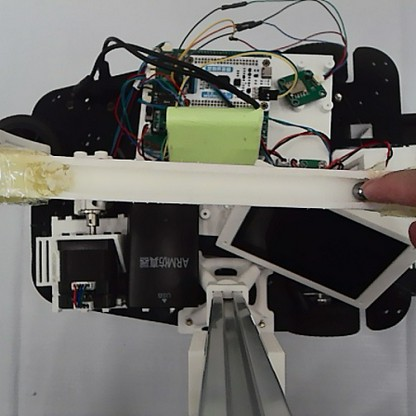ironball: (349, 178, 367, 203)
